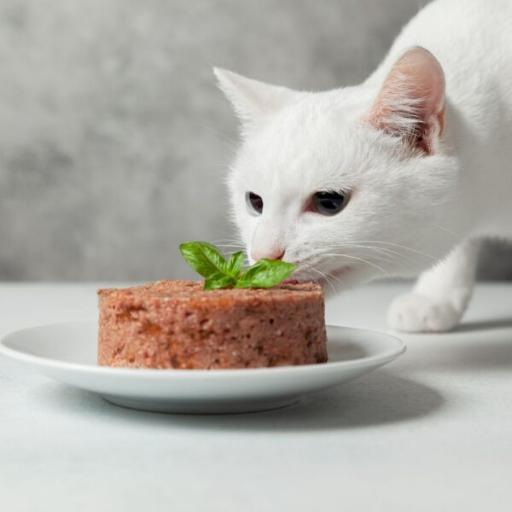cat_eating: (0, 0, 511, 413)
